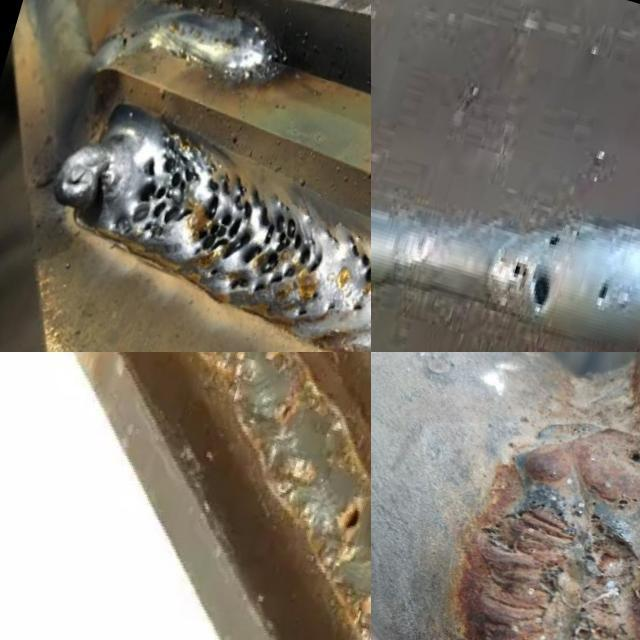defect: (192, 167, 319, 296), (124, 134, 204, 240), (487, 497, 570, 555), (574, 509, 640, 567), (509, 260, 555, 314), (343, 225, 371, 291), (530, 551, 568, 588), (569, 620, 616, 640), (541, 220, 566, 256), (590, 276, 611, 309), (341, 499, 362, 531), (609, 494, 640, 514), (278, 393, 298, 422), (319, 222, 337, 246), (346, 297, 364, 319), (621, 445, 640, 465), (295, 306, 310, 322), (310, 286, 320, 301), (327, 301, 338, 314)
